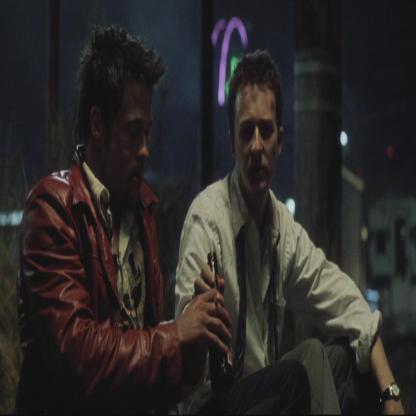face: (238, 83, 276, 194), (117, 78, 151, 197)
